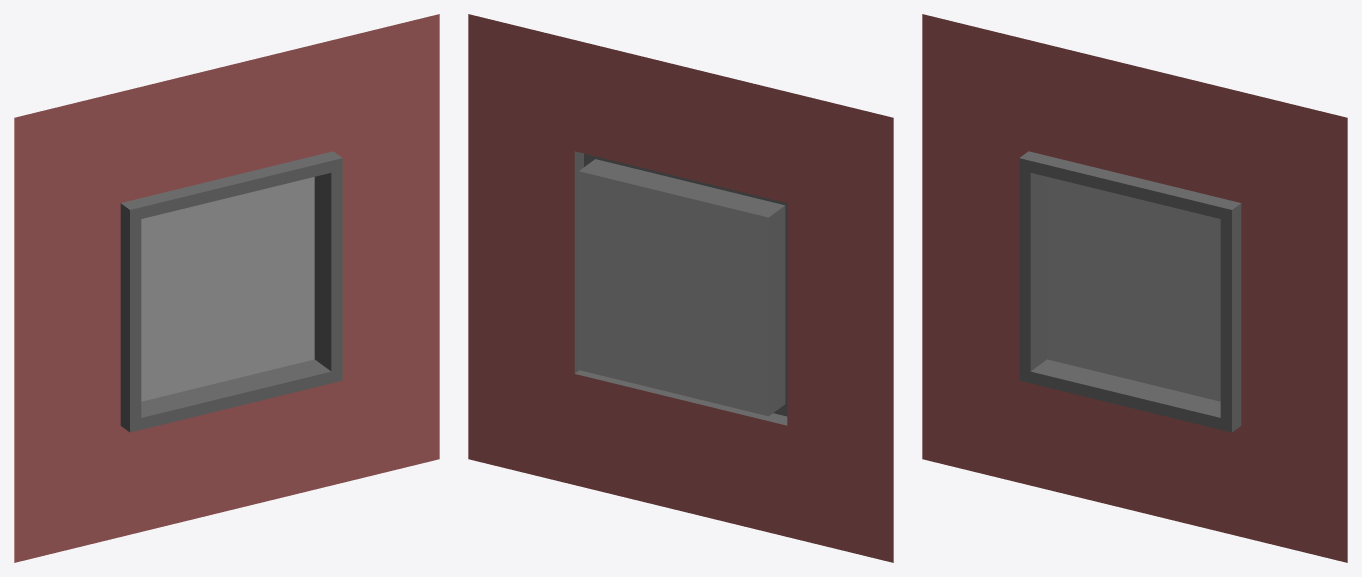
File: Wall_Window_Blank_TEST.fbx
The picture shows the model from 3 angles, left to right: view 1: azimuth 30°, elevation 25°; view 2: azimuth 150°, elevation 25°; view 3: azimuth 330°, elevation 25°; orthographic projection.
Parts seen in each view (by area): view 1: Wall_Window_02; view 2: Wall_Window_02; view 3: Wall_Window_02.
Part boxes in pixels (box(x1,y1,x2,y2)): Wall_Window_02: box(14, 14, 439, 562); Wall_Window_02: box(468, 14, 893, 562); Wall_Window_02: box(922, 14, 1347, 562).
Bounding box in the file's own units: 4 × 4 × 0.2708.
